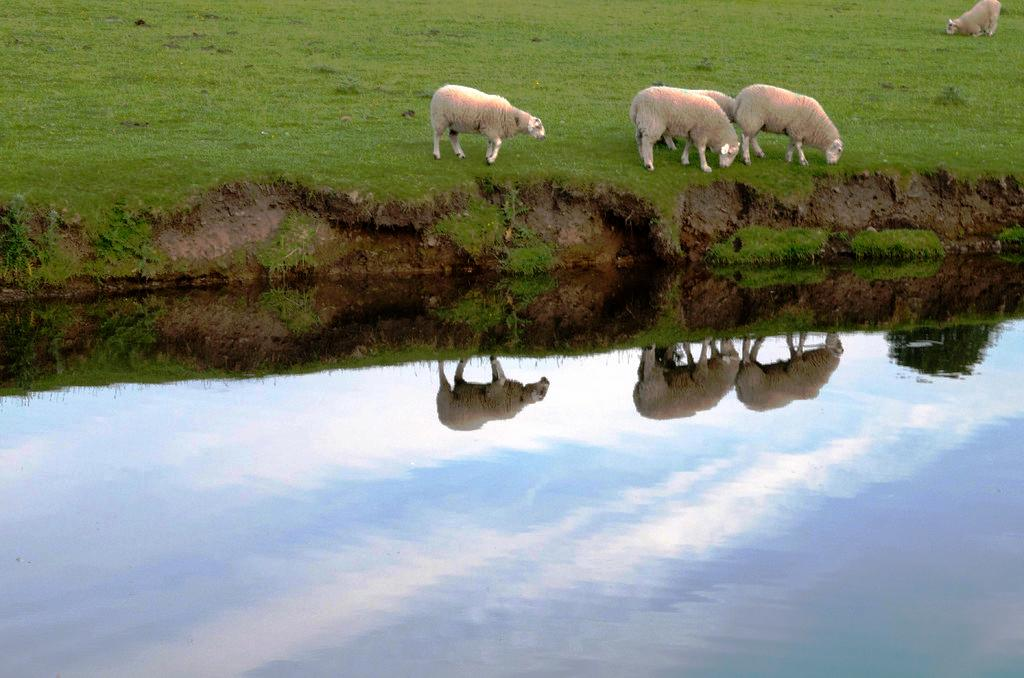Sheep: (423, 81, 552, 162), (628, 87, 741, 170), (734, 86, 846, 162), (664, 87, 738, 150), (945, 1, 1001, 36)
